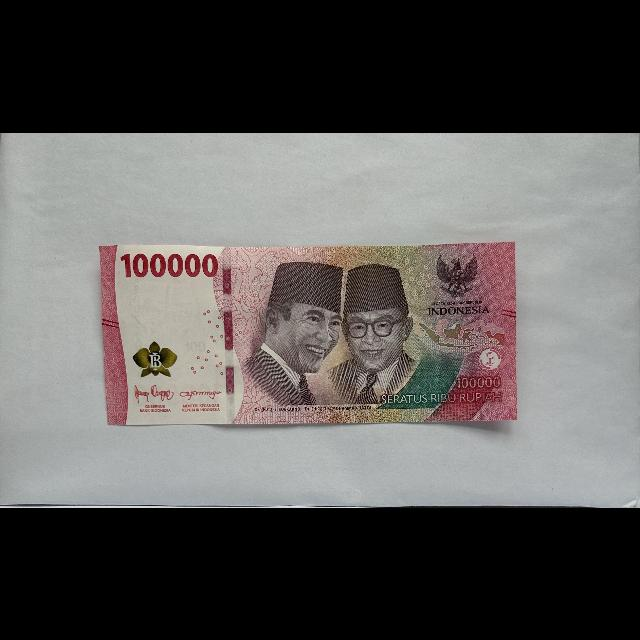Asli-100k: (98, 239, 519, 425)
Tinta-Asli-100k: (132, 339, 178, 377)
